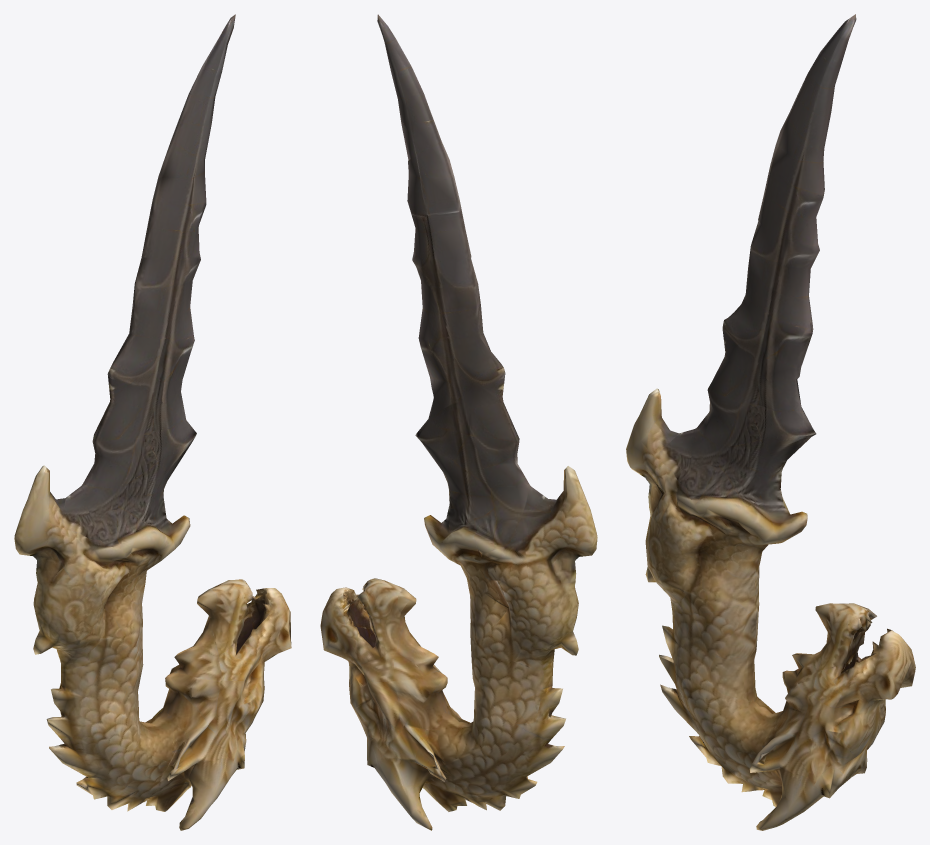
The model's file is 1176_dagger.glb.
3 renders of one model, left to right at view 1: azimuth 30°, elevation 25°; view 2: azimuth 150°, elevation 25°; view 3: azimuth 330°, elevation 25°, orthographic. The views are drawn at different scales.
Visible parts, largest first — view 1: Model; view 2: Model; view 3: Model.
Boxes of the visible parts, x1,y1,x2,y2 form: Model: (14, 14, 291, 830); Model: (320, 14, 597, 830); Model: (626, 14, 915, 830).
Bounding box in the file's own units: 0.3606 × 1 × 0.1026.
1 material, 1 textured.
